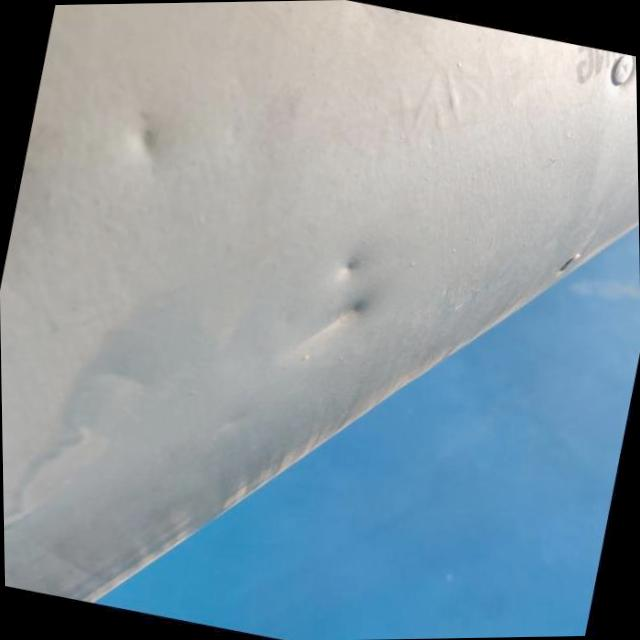dent: (281, 278, 381, 364), (116, 103, 182, 177), (330, 248, 372, 284)
